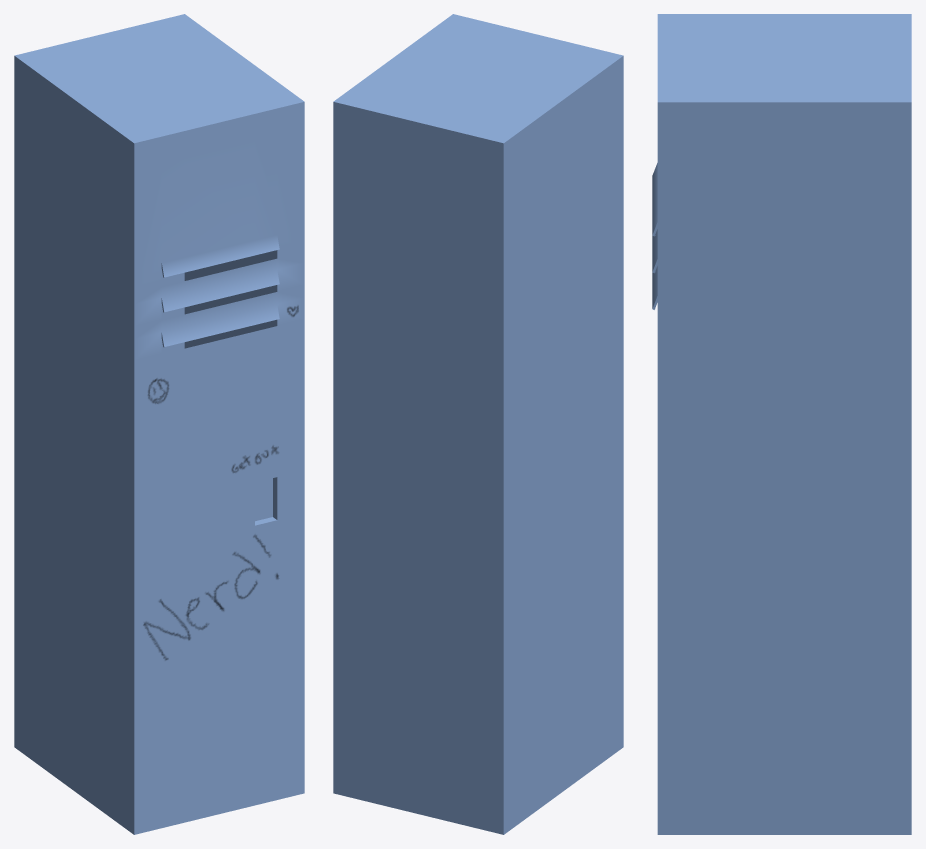
File: painted_locker.fbx
3 views of the same model, side by side, from view 1: azimuth 30°, elevation 25°; view 2: azimuth 150°, elevation 25°; view 3: azimuth 270°, elevation 25° (orthographic). The views are drawn at different scales.
Parts seen in each view (by area): view 1: polySurface1; view 2: polySurface1; view 3: polySurface1.
Part boxes in pixels (bbox=[...]): polySurface1: bbox=[14, 14, 304, 834]; polySurface1: bbox=[333, 14, 623, 834]; polySurface1: bbox=[652, 14, 911, 834].
Bounding box in the file's own units: 1.55 × 6 × 1.92.
1 material, 1 textured.
